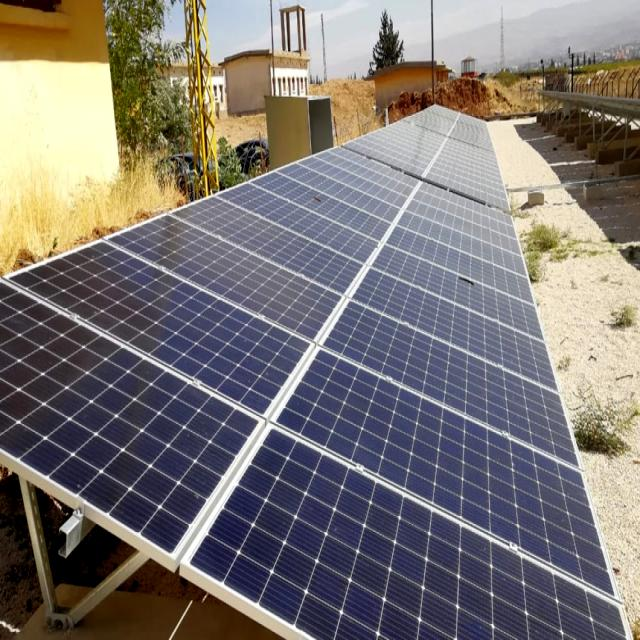crack: (156, 404, 640, 640), (275, 334, 631, 606), (1, 228, 337, 413), (316, 279, 594, 471), (108, 190, 364, 358), (318, 234, 558, 404), (368, 222, 594, 372), (178, 158, 366, 324), (220, 154, 399, 303)
